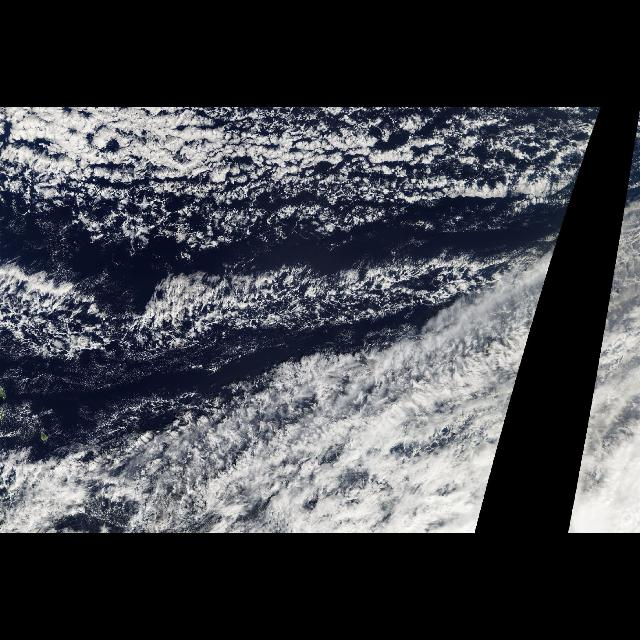Fish: (0, 246, 516, 368), (3, 107, 545, 221)
Gravel: (11, 114, 600, 363), (595, 114, 639, 363)
